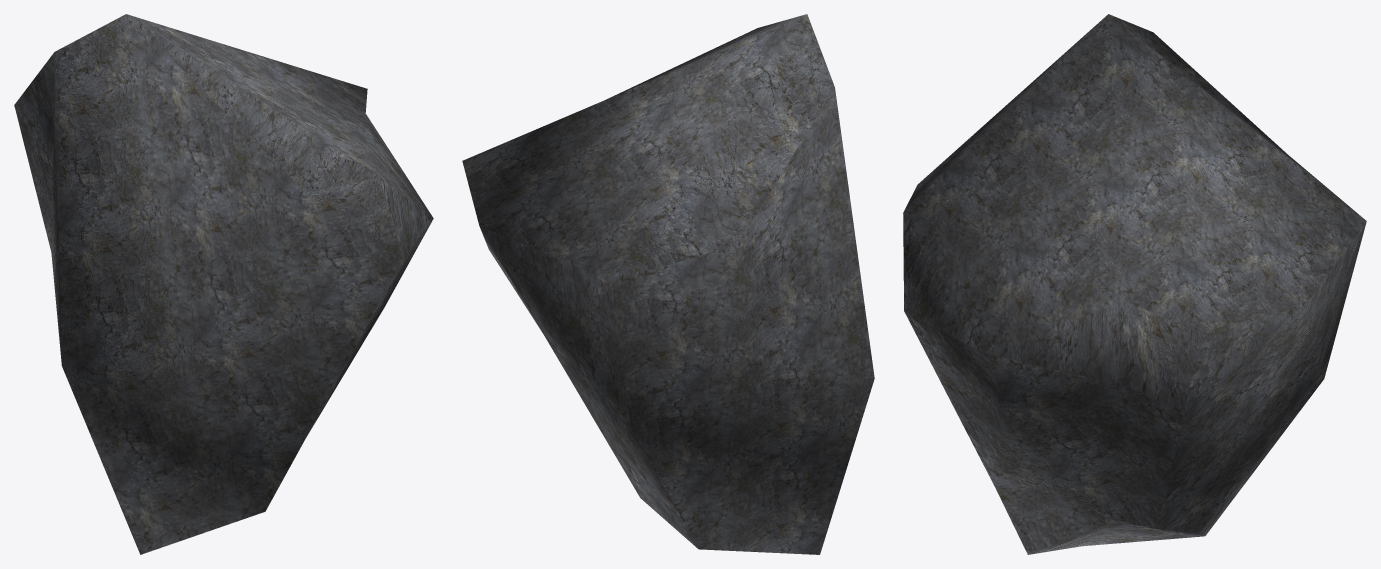
The model's file is smallerRock01.fbx.
3 renders of one model, left to right at view 1: azimuth 30°, elevation 25°; view 2: azimuth 150°, elevation 25°; view 3: azimuth 270°, elevation 25°, orthographic. The views are drawn at different scales.
Visible parts, largest first — view 1: rock.004; view 2: rock.004; view 3: rock.004.
Part boxes in pixels (x1=…): rock.004: x1=14, y1=14, x2=433, y2=554; rock.004: x1=462, y1=14, x2=874, y2=554; rock.004: x1=903, y1=14, x2=1366, y2=554.
Size of the model in its own units: 1150 by 1661 by 1312.
